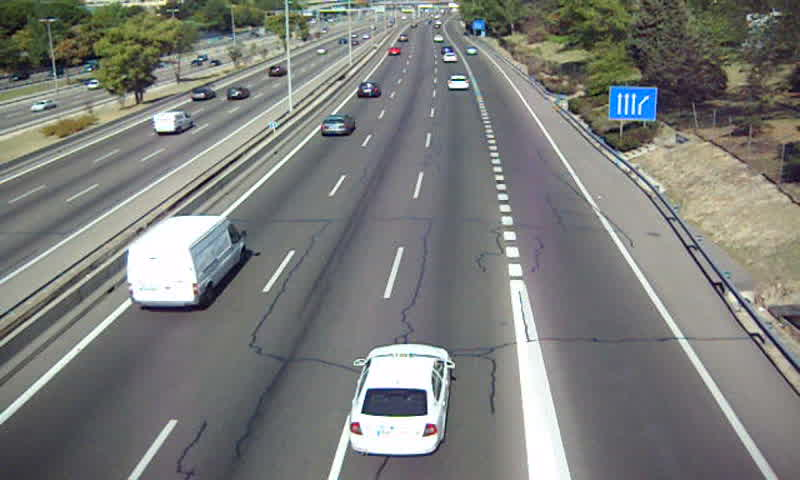car: (350, 344, 450, 455), (320, 115, 355, 137), (356, 81, 380, 100), (446, 75, 471, 91)
van: (128, 217, 243, 309)
